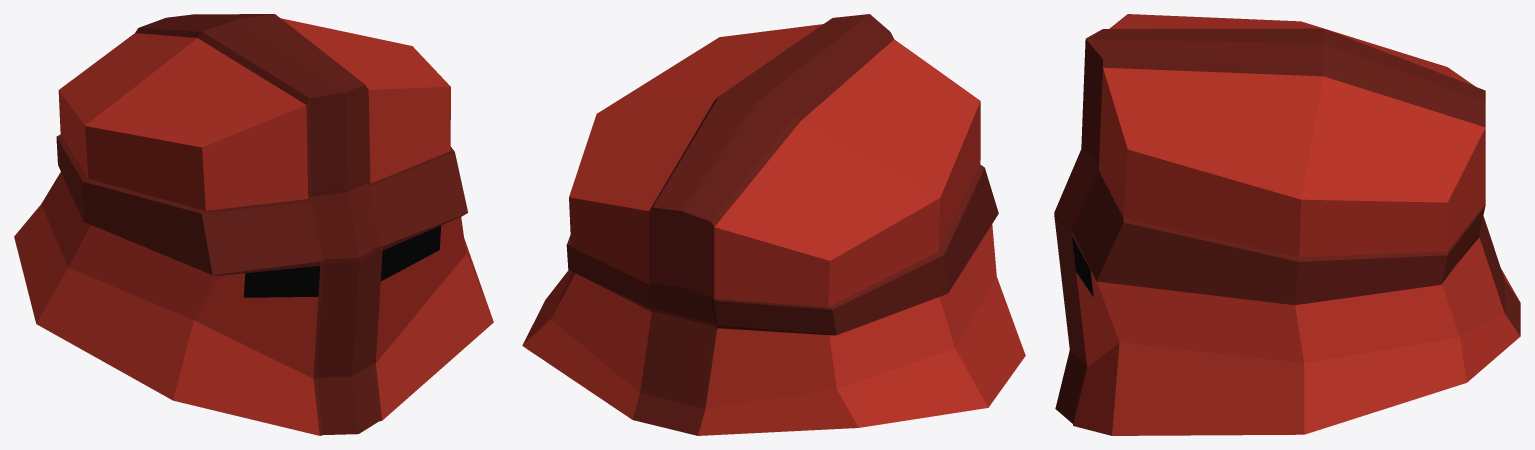
Rendered from Armor_3_Red.fbx.
3 views of the same model, side by side, from view 1: azimuth 30°, elevation 25°; view 2: azimuth 150°, elevation 25°; view 3: azimuth 270°, elevation 25° (orthographic). The views are drawn at different scales.
Visible parts, largest first — view 1: Armor_3_Red_Part_1, Armor_3_Red_Part_2, Armor_3_Red_Part_3; view 2: Armor_3_Red_Part_1, Armor_3_Red_Part_2; view 3: Armor_3_Red_Part_1, Armor_3_Red_Part_2, Armor_3_Red_Part_3.
Part boxes in pixels (box(x1,y1,x2,y2)): Armor_3_Red_Part_1: box(14, 18, 493, 435); Armor_3_Red_Part_2: box(56, 14, 468, 435); Armor_3_Red_Part_3: box(243, 225, 441, 297); Armor_3_Red_Part_1: box(522, 24, 1025, 435); Armor_3_Red_Part_2: box(566, 14, 998, 435); Armor_3_Red_Part_1: box(1073, 14, 1520, 435); Armor_3_Red_Part_2: box(1054, 28, 1520, 424); Armor_3_Red_Part_3: box(1072, 236, 1093, 296).
Bounding box in the file's own units: 39.61 × 29.75 × 33.95.
